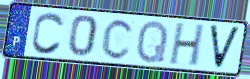0: (66, 14, 100, 59)
C: (30, 11, 67, 56), (100, 17, 136, 61)
H: (167, 22, 207, 68)
Q: (134, 19, 170, 65)
V: (207, 23, 243, 71)
